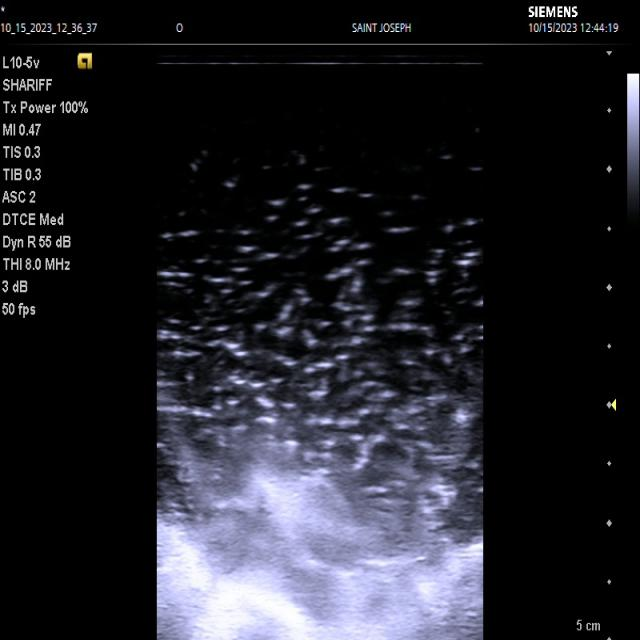tissue: (158, 464, 483, 640)
